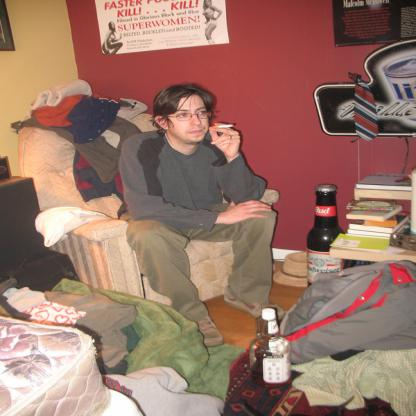drinking: (307, 183, 345, 297), (249, 308, 292, 387)
smoking: (213, 125, 233, 128)
